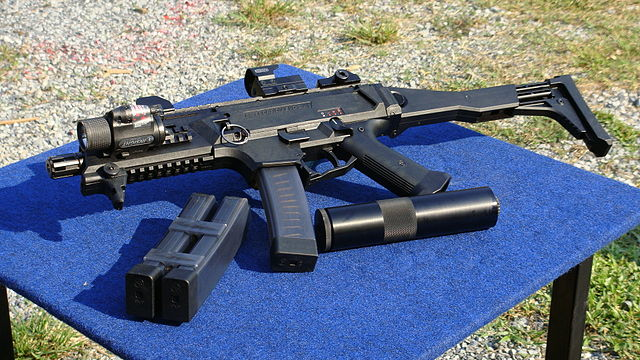pistol: (53, 62, 614, 260)
